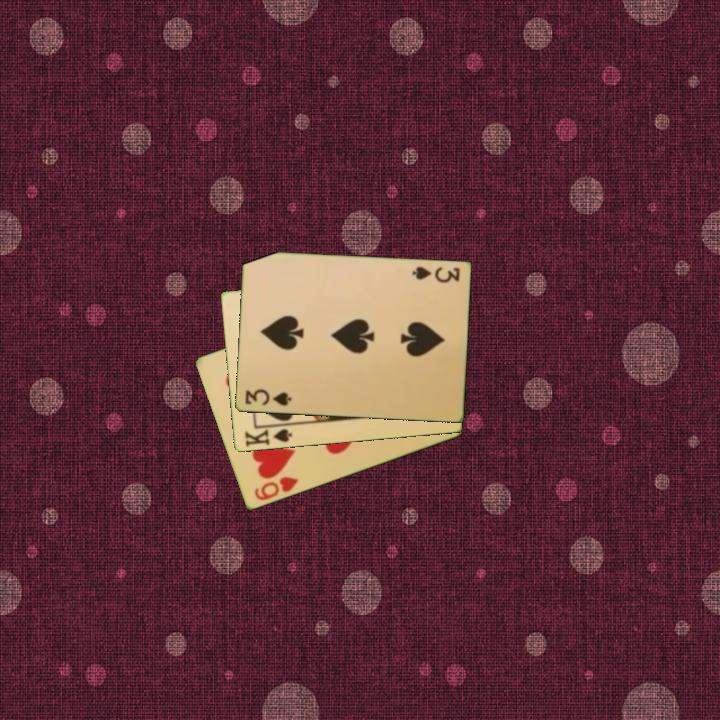3s: (408, 263, 462, 286), (241, 386, 294, 409)
6h: (251, 473, 301, 504)
Ks: (241, 425, 295, 450)
